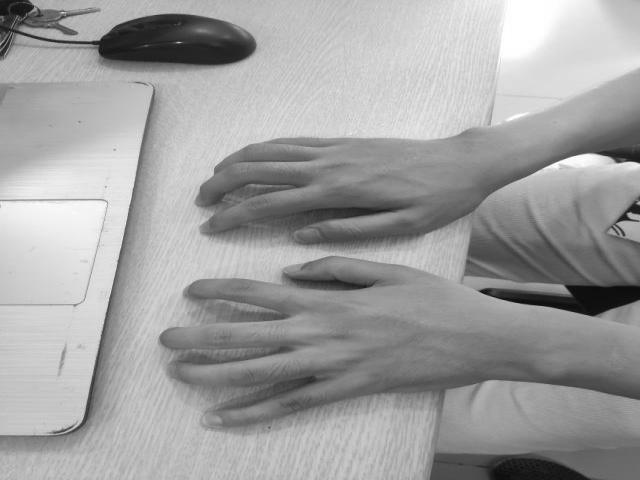not-gloved: (160, 254, 483, 424), (198, 134, 462, 243)
